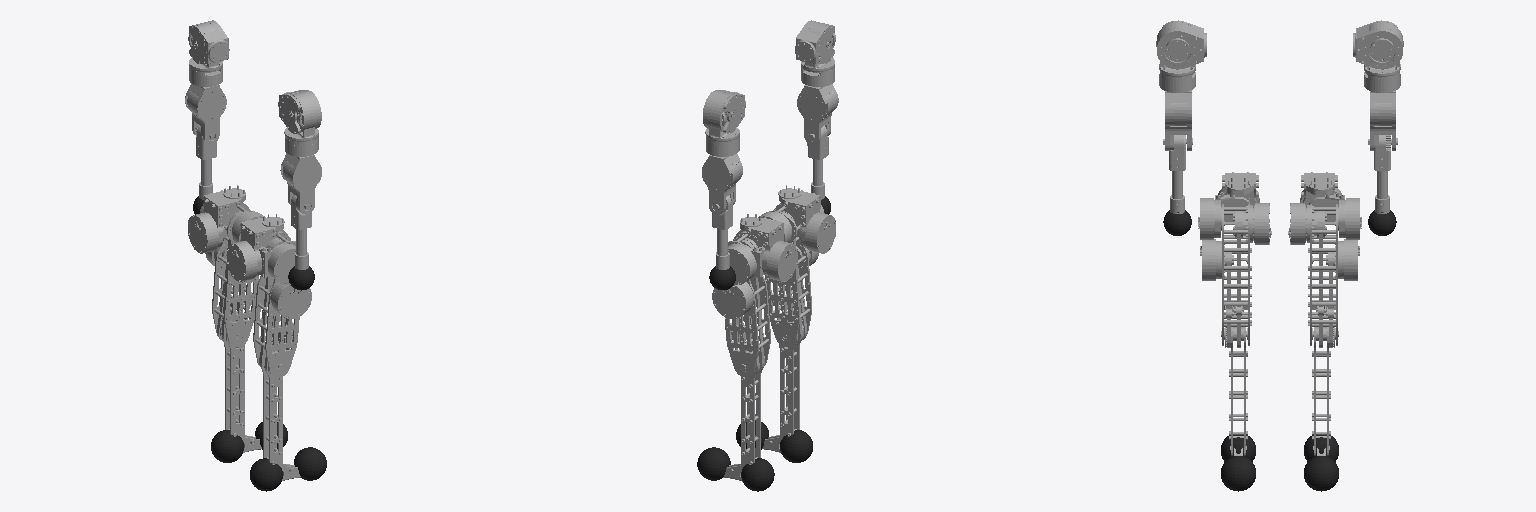
--- Render facts (derived) ---
3 views of the same robot in one strip: view 1: azimuth 30°, elevation 25°; view 2: azimuth 150°, elevation 25°; view 3: azimuth 270°, elevation 25° (orthographic).
Robot: achilles — 33 links, 32 joints (18 revolute, 14 fixed); root link base_link; default pose: all joints at 0.
Links seen in each view (by area): view 1: right_hip_pitch, left_hip_pitch, left_hip_yaw, right_hip_yaw, left_knee_pitch, right_knee_pitch, left_shoulder_yaw, right_shoulder_yaw, right_shoulder_pitch, left_shoulder_pitch, right_hip_roll, right_elbow_pitch (+6 smaller); view 2: left_hip_pitch, right_hip_pitch, right_hip_yaw, left_hip_yaw, right_knee_pitch, left_knee_pitch, right_shoulder_yaw, left_shoulder_yaw, left_shoulder_pitch, right_shoulder_pitch, left_hip_roll, left_elbow_pitch (+6 smaller); view 3: left_hip_pitch, right_hip_pitch, left_shoulder_pitch, right_shoulder_pitch, right_shoulder_yaw, left_shoulder_yaw, left_hip_roll, right_hip_roll, left_knee_pitch, right_knee_pitch, left_elbow_pitch, right_elbow_pitch (+10 smaller).
Boxes of the visible links, left/top/right/bottom form: right_hip_pitch: left=253, top=230, right=311, bottom=377; left_hip_pitch: left=205, top=203, right=265, bottom=347; left_hip_yaw: left=188, top=185, right=245, bottom=253; right_hip_yaw: left=227, top=214, right=284, bottom=281; left_knee_pitch: left=220, top=319, right=245, bottom=443; right_knee_pitch: left=259, top=350, right=283, bottom=471; left_shoulder_yaw: left=185, top=83, right=226, bottom=144; right_shoulder_yaw: left=280, top=153, right=321, bottom=214; right_shoulder_pitch: left=278, top=90, right=321, bottom=133; left_shoulder_pitch: left=189, top=20, right=229, bottom=63; right_hip_roll: left=259, top=243, right=295, bottom=285; right_elbow_pitch: left=291, top=195, right=311, bottom=269; left_hip_pitch: left=712, top=230, right=770, bottom=377; right_hip_pitch: left=758, top=203, right=818, bottom=347; right_hip_yaw: left=778, top=185, right=835, bottom=253; left_hip_yaw: left=740, top=214, right=797, bottom=281; right_knee_pitch: left=779, top=320, right=803, bottom=443; left_knee_pitch: left=740, top=350, right=764, bottom=471; right_shoulder_yaw: left=797, top=84, right=838, bottom=144; left_shoulder_yaw: left=702, top=154, right=742, bottom=214; left_shoulder_pitch: left=703, top=90, right=745, bottom=133; right_shoulder_pitch: left=795, top=20, right=834, bottom=63; left_hip_roll: left=728, top=243, right=764, bottom=284; left_elbow_pitch: left=712, top=195, right=732, bottom=269; left_hip_pitch: left=1288, top=203, right=1359, bottom=347; right_hip_pitch: left=1200, top=203, right=1271, bottom=347; left_shoulder_pitch: left=1353, top=20, right=1403, bottom=69; right_shoulder_pitch: left=1156, top=20, right=1206, bottom=69; right_shoulder_yaw: left=1163, top=90, right=1192, bottom=150; left_shoulder_yaw: left=1368, top=91, right=1397, bottom=150; left_hip_roll: left=1309, top=192, right=1361, bottom=239; right_hip_roll: left=1198, top=192, right=1250, bottom=239; left_knee_pitch: left=1312, top=327, right=1338, bottom=455; right_knee_pitch: left=1221, top=327, right=1247, bottom=455; left_elbow_pitch: left=1374, top=135, right=1390, bottom=213; right_elbow_pitch: left=1169, top=135, right=1185, bottom=213.
Size in the robot's own frame: 0.2424 by 0.536 by 1.06 metres.
Meshes: 17 distinct files referenced, 18 mesh visuals loaded (16 OBJ); not drawn: 1 (reference not matched to a file when rendering).

robot.urdf — achilles:
<?xml version="1.0" ?>
<robot name="achilles">

  <!-- Colorblind -->
  <material name="red">
    <!-- <color rgba="0.847 0.106 0.377 1" /> -->
    <color rgba="0.4 0 0 1" />
  </material>
  <material name="green">
    <color rgba="0.0 0.302 0.251 1" />
  </material>
  <material name="blue">
    <!-- <color rgba="0.1176 0.533 0.898 1" /> -->
    <color rgba="0 0 0.4 1" />
  </material>
  <material name="yellow">
    <color rgba="1.0 0.757 0.028 1" />
  </material>

  <!-- Materials -->
  <material name="black">
    <color rgba="0.2 0.2 0.2 1" />
  </material>
  <material name="white">
    <color rgba="0.7 0.7 0.7 1" />
  </material>
  <material name="caltech_orange">
    <color rgba="0.92 0.39 0.043 1" />
  </material>

  <!-- Base -->
  <link name="base_link"/>
  <link name="torso">
    <inertial>
      <origin rpy="0 0 0" xyz="0 0 -0.107903"/>
      <mass value="8.3"/>
      <inertia ixx="0.172676" ixy="0.0" ixz="0.0" iyy="0.102985" iyz="0.0" izz="0.087971"/>
    </inertial>
    <visual>
      <origin rpy="0 0 0" xyz="0 0 0"/>
      <geometry>
        <mesh filename="../meshes/achilles_obj/torso_rough.obj"/>
      </geometry>
      <material name="white"/>
    </visual>
  </link>
  <joint name="base_to_torso_joint" type="fixed">
    <parent link="base_link"/>
    <child link="torso"/>
    <origin rpy="0 0 0" xyz="0 0 0"/>
  </joint>

  <!-- Left Leg -->
  <link name="left_hip_yaw">
    <inertial>
      <origin rpy="0 0 0" xyz="-0.066483 -0.001451 -0.062589"/>
      <mass value="0.80187"/>
      <inertia ixx="0.001907" ixy="0" ixz="0" iyy="0.002034" iyz="0" izz="0.001175"/>
    </inertial>
    <visual>
      <origin rpy="0 0 0" xyz="0 0 0"/>
      <geometry>
        <mesh filename="../meshes/achilles_obj/left_hip_yaw.obj"/>
      </geometry>
      <material name="white"/>
      <!-- <material name="blue"/> -->
    </visual>
  </link>
  <joint name="left_hip_yaw_joint" type="revolute">
    <axis xyz="0 0 1"/>
    <limit effort="35.0" lower="-1" upper="1" velocity="20"/>
    <dynamics damping="0.01"/>
    <origin rpy="0 0 0" xyz="0 0.090 -0.334"/>
    <parent link="torso"/>
    <child link="left_hip_yaw"/>
  </joint>

  <link name="left_hip_roll">
    <inertial>
      <origin rpy="0 0 0" xyz="0.0465 0.055 0.000784"/>
      <mass value="0.843"/>
      <inertia ixx="0.000867" ixy="0" ixz="0" iyy="0.001086" iyz="0" izz="0.001082"/>
    </inertial>
    <visual>
      <origin rpy="0 0 0" xyz="0 0 0"/>
      <geometry>
        <mesh filename="../meshes/achilles_obj/left_hip_roll.obj"/>
      </geometry>
      <material name="white"/>
      <!-- <material name="blue"/> -->
    </visual>
  </link>
  <joint name="left_hip_roll_joint" type="revolute">
    <axis xyz="1 0 0"/>
    <limit effort="35.0" lower="-1" upper="1" velocity="10"/>
    <dynamics damping="0.01"/>
    <origin rpy="0 0 0" xyz="-0.055 0 -0.083"/>
    <parent link="left_hip_yaw"/>
    <child link="left_hip_roll"/>
  </joint>

  <link name="left_hip_pitch">
    <inertial>
      <origin rpy="0 0 0" xyz="0.0139 -0.0336 -0.076"/>
      <mass value="2.42"/>
      <inertia ixx="0.0206" ixy="0" ixz="0" iyy="0.0173" iyz="0" izz="0.00594"/>
    </inertial>
    <visual>
      <origin rpy="0 0 0" xyz="0 0 0"/>
      <geometry>
        <mesh filename="../meshes/achilles_obj/left_hip_pitch.obj"/>
      </geometry>
      <material name="white"/>
      <!-- <material name="blue"/> -->
    </visual>
  </link>
  <joint name="left_hip_pitch_joint" type="revolute">
    <axis xyz="0 1 0"/>
    <limit effort="35.0" lower="-1.5" upper="1.5" velocity="20"/>
    <dynamics damping="0.01"/>
    <origin rpy="0 0 0" xyz="0.055 0.0395 0"/>
    <parent link="left_hip_roll"/>
    <child link="left_hip_pitch"/>
  </joint>

  <link name="left_hip_center">
    <inertial>
      <origin rpy="0 0 0" xyz="0 0 0"/>
      <mass value="0.001"/>
      <inertia ixx="1e-06" ixy="0.0" ixz="0.0" iyy="1e-06" iyz="0.0" izz="1e-06"/>
    </inertial>
  </link>
  <joint name="left_hip_center_joint" type="fixed">
    <origin rpy="0 0 0" xyz="0 -0.0395 0"/>
    <parent link="left_hip_pitch"/>
    <child link="left_hip_center"/>
  </joint>

  <link name="left_knee_pitch">
    <inertial>
      <origin rpy="0 0 0" xyz="0.001 0.003 -0.131"/>
      <mass value="0.556"/>
      <inertia ixx="0.00666" ixy="0" ixz="0" iyy="0.006613" iyz="0" izz="0.000226"/>
    </inertial>
    <visual>
      <origin rpy="0 0 0" xyz="0 0 0"/>
      <geometry>
        <mesh filename="../meshes/achilles_obj/left_knee_pitch.obj"/>
      </geometry>
      <material name="white"/>
      <!-- <material name="blue"/> -->
    </visual>
  </link>
  <joint name="left_knee_pitch_joint" type="revolute">
    <axis xyz="0 1 0"/>
    <origin rpy="0 0 0" xyz="0.0 -0.0395 -0.275"/>
    <parent link="left_hip_pitch"/>
    <child link="left_knee_pitch"/>
    <limit effort="35.0" lower="0" upper="2" velocity="10"/>
    <dynamics damping="0.01"/>
  </joint>

  <link name="left_ankle_pitch">
    <inertial>
      <origin rpy="0 0 0" xyz="0.0272 0.0 -0.0156"/>
      <mass value="0.180"/>
      <inertia ixx="0.000031" ixy="0" ixz="0" iyy="0.000286" iyz="0" izz="0.000272"/>
    </inertial>
    <visual>
      <origin rpy="0 0 0" xyz="0 0 0"/>
      <geometry>
        <mesh filename="../meshes/achilles_obj/ankle_pitch.obj"/>
      </geometry>
      <material name="white"/>
      <!-- <material name="blue"/> -->
    </visual>
  </link>
  <joint name="left_ankle_pitch_joint" type="revolute">
    <axis xyz="0 1 0"/>
    <origin rpy="0 0 0" xyz="0 0 -0.275"/>
    <parent link="left_knee_pitch"/>
    <child link="left_ankle_pitch"/>
    <limit effort="35" lower="-1" upper="1" velocity="20"/>
    <dynamics damping="0.01"/>
  </joint>

  <link name="left_foot">
    <!-- <inertial>
      <origin rpy="0 0 0" xyz="0 0 0"/>
      <mass value="0.001"/>
      <inertia ixx="1e-06" ixy="0.0" ixz="0.0" iyy="1e-06" iyz="0.0" izz="1e-06"/>
    </inertial> -->
  </link>
  
  <joint name="left_foot_joint" type="fixed">
    <origin rpy="0 0 0" xyz="0 0 0"/>
    <parent link="left_ankle_pitch"/>
    <child link="left_foot"/>
  </joint>

  <link name="left_foot_toe">
    <inertial>
      <origin rpy="0 0 0" xyz="0 0 0"/>
      <mass value="0.001"/>
      <inertia ixx="1e-06" ixy="0.0" ixz="0.0" iyy="1e-06" iyz="0.0" izz="1e-06"/>
    </inertial>
    <visual>
      <origin rpy="0 0 0" xyz="0 0 0"/>
      <geometry>
        <sphere radius="0.039"/>
      </geometry>
      <material name="black"/>
    </visual>
    <collision>
      <origin rpy="0 0 0" xyz="0 0 0"/>
      <geometry>
        <sphere radius="0.039"/>
      </geometry>
    </collision>
  </link>
  <joint name="left_foot_toe_joint" type="fixed">
    <origin rpy="0 0 0" xyz="0.09932 0 -0.01259"/>
    <parent link="left_ankle_pitch"/>
    <child link="left_foot_toe"/>
  </joint>

  <link name="left_foot_heel">
    <inertial>
      <origin rpy="0 0 0" xyz="0 0 0"/>
      <mass value="0.001"/>
      <inertia ixx="1e-06" ixy="0.0" ixz="0.0" iyy="1e-06" iyz="0.0" izz="1e-06"/>
    </inertial>
    <visual>
      <origin rpy="0 0 0" xyz="0 0 0"/>
      <geometry>
        <sphere radius="0.039"/>
      </geometry>
      <material name="black"/>
    </visual>
    <collision>
      <origin rpy="0 0 0" xyz="0 0 0"/>
      <geometry>
        <sphere radius="0.039"/>
      </geometry>
    </collision>
  </link>
  <joint name="left_foot_heel_joint" type="fixed">
    <origin rpy="0 0 0" xyz="-0.01859 0 -0.01259"/>
    <parent link="left_ankle_pitch"/>
    <child link="left_foot_heel"/>
  </joint>

  <!-- Left Arm-->
  <link name="left_shoulder_pitch">
    <inertial>
      <origin rpy="0 0 0" xyz="0 0.05 0"/>
      <mass value="0.796"/>
      <inertia ixx="0.000943" ixy="0" ixz="0" iyy="0.00056" iyz="0" izz="0.000675"/>
    </inertial>
    <visual>
      <origin rpy="0 0 0" xyz="0 0 0"/>
      <geometry>
        <mesh filename="../meshes/achilles_obj/left_shoulder_pitch.obj"/>
      </geometry>
      <material name="white"/>
      <!-- <material name="blue"/> -->
    </visual>
  </link>
  <joint name="left_shoulder_pitch_joint" type="revolute">
    <axis xyz="0 1 0"/>
    <limit effort="35" lower="-1.58" upper="1.58" velocity="20"/>
    <dynamics damping="0.01"/>
    <origin rpy="0 0 0" xyz="0 0.159 0"/>
    <parent link="torso"/>
    <child link="left_shoulder_pitch"/>
  </joint>
  
  <link name="left_shoulder_roll">
    <inertial>
      <origin rpy="0 0 0" xyz="0 0 -0.0708"/>
      <mass value="0.484"/>
      <inertia ixx="0.000498" ixy="0" ixz="0" iyy="0.000458" iyz="0" izz="0.000384"/>
    </inertial>
    <visual>
      <origin rpy="0 0 0" xyz="0 0 0"/>
      <geometry>
        <mesh filename="../meshes/achilles_obj/left_shoulder_roll.obj"/>
      </geometry>
      <material name="white"/>
      <!-- <material name="blue"/> -->
    </visual>
  </link>
  <joint name="left_shoulder_roll_joint" type="revolute">
    <axis xyz="1 0 0"/>
    <limit effort="9" lower="0" upper="3.141592653589793" velocity="20"/>
    <dynamics damping="0.01"/>
    <origin rpy="0 0 0" xyz="0 0.063 0"/>
    <parent link="left_shoulder_pitch"/>
    <child link="left_shoulder_roll"/>
  </joint>

  <link name="left_shoulder_center">
    <inertial>
      <origin rpy="0 0 0" xyz="0 0 0"/>
      <mass value="0.001"/>
      <inertia ixx="1e-06" ixy="0.0" ixz="0.0" iyy="1e-06" iyz="0.0" izz="1e-06"/>
    </inertial>
  </link>
  <joint name="left_shoulder_center_joint" type="fixed">
    <origin rpy="0 0 0" xyz="0 0 0"/>
    <parent link="left_shoulder_roll"/>
    <child link="left_shoulder_center"/>
  </joint>

  <link name="left_shoulder_yaw">
    <inertial>
      <origin rpy="0 0 0" xyz="0 0 -0.059"/>
      <mass value="0.5847"/>
      <inertia ixx="0.0007" ixy="0" ixz="0" iyy="0.000796" iyz="0" izz="0.000348"/>
    </inertial>
    <visual>
      <origin rpy="0 0 0" xyz="0 0 0"/>
      <geometry>
        <mesh filename="../meshes/achilles_obj/right_shoulder_yaw.obj"/>
      </geometry>
      <material name="white"/>
      <!-- <material name="blue"/> -->
    </visual>
  </link>
  <joint name="left_shoulder_yaw_joint" type="revolute">
    <origin rpy="0 0 0" xyz="0 0 -0.0986"/>
    <parent link="left_shoulder_roll"/>
    <child link="left_shoulder_yaw"/>
    <axis xyz="0 0 1"/>
    <limit effort="9" lower="-1.58" upper="1.58" velocity="20"/>
  </joint>

  <link name="left_elbow_pitch">
    <inertial>
      <origin rpy="0 0 0" xyz="0 0 -0.1284"/>
      <mass value="0.297"/>
      <inertia ixx="0.0018" ixy="0" ixz="0" iyy="0.0018" iyz="0" izz="0.0001"/>
    </inertial>
    <visual>
      <origin rpy="0 0 0" xyz="0 0 0"/>
      <geometry>
        <mesh filename="../meshes/achilles_obj/left_elbow_pitch.obj"/>
      </geometry>
      <material name="white"/>
      <!-- <material name="blue"/> -->
    </visual>
  </link>
  <joint name="left_elbow_pitch_joint" type="revolute">
    <axis xyz="0 1 0"/>
    <limit effort="9" lower="-1.58" upper="0" velocity="10"/>
    <dynamics damping="0.01"/>
    <origin rpy="0 0 0" xyz="0 0 -0.133"/>
    <parent link="left_shoulder_yaw"/>
    <child link="left_elbow_pitch"/>
  </joint>

  <link name="left_hand">
    <inertial>
      <origin rpy="0 0 0" xyz="0 0 0"/>
      <mass value="0.001"/>
      <inertia ixx="1e-06" ixy="0.0" ixz="0.0" iyy="1e-06" iyz="0.0" izz="1e-06"/>
    </inertial>
      <visual>
      <origin rpy="0 0 0" xyz="0 0 0"/>
      <geometry>
        <sphere radius="0.031"/>
      </geometry>
      <material name="black"/>
    </visual>
    <collision>
      <origin rpy="0 0 0" xyz="0 0 0"/>
      <geometry>
        <sphere radius="0.031"/>
      </geometry>
    </collision>
  </link>
  <!-- Hand radius is 0.03 m -->
  <joint name="left_hand_joint" type="fixed">
    <origin rpy="0 0 0" xyz="0.0 0.0 -0.192"/>
    <parent link="left_elbow_pitch"/>
    <child link="left_hand"/>
  </joint>



  <!-- Right Leg -->
  <link name="right_hip_yaw">
    <inertial>
      <origin rpy="0 0 0" xyz="-0.066483 0.001451 -0.062589"/>
      <mass value="0.80187"/>
      <inertia ixx="0.001907" ixy="0" ixz="0" iyy="0.002034" iyz="0" izz="0.001175"/>
    </inertial>
    <visual>
      <origin rpy="0 0 0" xyz="0 0 0"/>
      <geometry>
        <mesh filename="../meshes/achilles_obj/right_hip_yaw.obj"/>
      </geometry>
      <material name="white"/>
      <!-- <material name="red"/> -->
    </visual>
  </link>
  <joint name="right_hip_yaw_joint" type="revolute">
    <axis xyz="0 0 1"/>
    <limit effort="35.0" lower="-1" upper="1" velocity="20"/>
    <dynamics damping="0.01"/>
    <origin rpy="0 0 0" xyz="0 -0.090 -0.334"/>
    <parent link="torso"/>
    <child link="right_hip_yaw"/>
  </joint>

  <link name="right_hip_roll">
    <inertial>
      <origin rpy="0 0 0" xyz="0.0465 -0.055 0.000784"/>
      <mass value="0.843"/>
      <inertia ixx="0.000867" ixy="0" ixz="0" iyy="0.001086" iyz="0" izz="0.001082"/>
    </inertial>
    <visual>
      <origin rpy="0 0 0" xyz="0 0 0"/>
      <geometry>
        <mesh filename="../meshes/achilles_obj/right_hip_roll.obj"/>
      </geometry>
      <material name="white"/>
      <!-- <material name="red"/> -->
    </visual>
  </link>
  <joint name="right_hip_roll_joint" type="revolute">
    <axis xyz="1 0 0"/>
    <limit effort="35.0" lower="-1" upper="1" velocity="10"/>
    <dynamics damping="0.01"/>
    <origin rpy="0 0 0" xyz="-0.055 0 -0.083"/>
    <parent link="right_hip_yaw"/>
    <child link="right_hip_roll"/>
  </joint>

  <link name="right_hip_pitch">
    <inertial>
      <origin rpy="0 0 0" xyz="0.0139 0.0336 -0.076"/>
      <mass value="2.42"/>
      <inertia ixx="0.0206" ixy="0" ixz="0" iyy="0.0173" iyz="0" izz="0.00594"/>
    </inertial>
    <visual>
      <origin rpy="0 0 0" xyz="0 0 0"/>
      <geometry>
        <mesh filename="../meshes/achilles_obj/right_hip_pitch.obj"/>
      </geometry>
      <material name="white"/>
      <!-- <material name="red"/> -->
    </visual>
  </link>
  <joint name="right_hip_pitch_joint" type="revolute">
    <axis xyz="0 1 0"/>
    <limit effort="35.0" lower="-1.5" upper="1.5" velocity="20"/>
    <dynamics damping="0.01"/>
    <origin rpy="0 0 0" xyz="0.055 -0.0395 0"/>
    <parent link="right_hip_roll"/>
    <child link="right_hip_pitch"/>
  </joint>

  <link name="right_hip_center">
    <inertial>
      <origin rpy="0 0 0" xyz="0 0 0"/>
      <mass value="0.001"/>
      <inertia ixx="1e-06" ixy="0.0" ixz="0.0" iyy="1e-06" iyz="0.0" izz="1e-06"/>
    </inertial>
  </link>
  <joint name="right_hip_center_joint" type="fixed">
    <origin rpy="0 0 0" xyz="0 0.0395 0"/>
    <parent link="right_hip_pitch"/>
    <child link="right_hip_center"/>
  </joint>

  <link name="right_knee_pitch">
    <inertial>
      <origin rpy="0 0 0" xyz="0.001 -0.003 -0.131"/>
      <mass value="0.556"/>
      <inertia ixx="0.00666" ixy="0" ixz="0" iyy="0.006613" iyz="0" izz="0.000226"/>
    </inertial>
    <visual>
      <origin rpy="0 0 0" xyz="0 0 0"/>
      <geometry>
        <mesh filename="../meshes/achilles_obj/right_knee_pitch.obj"/>
      </geometry>
      <material name="white"/>
      <!-- <material name="red"/> -->
    </visual>
  </link>
  <joint name="right_knee_pitch_joint" type="revolute">
    <axis xyz="0 1 0"/>
    <origin rpy="0 0 0" xyz="0.0 0.0395 -0.275"/>
    <parent link="right_hip_pitch"/>
    <child link="right_knee_pitch"/>
    <limit effort="35.0" lower="0" upper="2" velocity="10"/>
    <dynamics damping="0.01"/>
  </joint>

  <link name="right_ankle_pitch">
    <inertial>
      <origin rpy="0 0 0" xyz="0.0272 -0.0 -0.0156"/>
      <mass value="0.180"/>
      <inertia ixx="0.000031" ixy="0" ixz="0" iyy="0.000286" iyz="0" izz="0.000272"/>
    </inertial>
    <visual>
      <origin rpy="0 0 0" xyz="0 0 0"/>
      <geometry>
        <mesh filename="../meshes/achilles_obj/ankle_pitch.obj"/>
      </geometry>
      <material name="white"/>
      <!-- <material name="red"/> -->
    </visual>
  </link>
  <joint name="right_ankle_pitch_joint" type="revolute">
    <axis xyz="0 1 0"/>
    <origin rpy="0 0 0" xyz="0 0 -0.275"/>
    <parent link="right_knee_pitch"/>
    <child link="right_ankle_pitch"/>
    <limit effort="35" lower="-1" upper="1" velocity="20"/>
    <dynamics damping="0.01"/>
  </joint>

  <link name="right_foot">
    <!-- <inertial>
      <origin rpy="0 0 0" xyz="0 0 0"/>
      <mass value="0.001"/>
      <inertia ixx="1e-06" ixy="0.0" ixz="0.0" iyy="1e-06" iyz="0.0" izz="1e-06"/>
    </inertial> -->
  </link>
  <joint name="right_foot_joint" type="fixed">
    <origin rpy="0 0 0" xyz="0 0 0"/>
    <parent link="right_ankle_pitch"/>
    <child link="right_foot"/>
  </joint>

   <link name="right_foot_toe">
    <inertial>
      <origin rpy="0 0 0" xyz="0 0 0"/>
      <mass value="0.001"/>
      <inertia ixx="1e-06" ixy="0.0" ixz="0.0" iyy="1e-06" iyz="0.0" izz="1e-06"/>
    </inertial>
    <visual>
      <origin rpy="0 0 0" xyz="0 0 0"/>
      <geometry>
        <sphere radius="0.039"/>
      </geometry>
      <material name="black"/>
    </visual>
    <collision>
      <origin rpy="0 0 0" xyz="0 0 0"/>
      <geometry>
        <sphere radius="0.039"/>
      </geometry>
    </collision>
  </link>
  <joint name="right_foot_toe_joint" type="fixed">
    <origin rpy="0 0 0" xyz="0.09932 0 -0.01259"/>
    <parent link="right_ankle_pitch"/>
    <child link="right_foot_toe"/>
  </joint>

  <link name="right_foot_heel">
    <inertial>
      <origin rpy="0 0 0" xyz="0 0 0"/>
      <mass value="0.001"/>
      <inertia ixx="1e-06" ixy="0.0" ixz="0.0" iyy="1e-06" iyz="0.0" izz="1e-06"/>
    </inertial>
    <visual>
      <origin rpy="0 0 0" xyz="0 0 0"/>
      <geometry>
        <sphere radius="0.039"/>
      </geometry>
      <material name="black"/>
    </visual>
    <collision>
      <origin rpy="0 0 0" xyz="0 0 0"/>
      <geometry>
        <sphere radius="0.039"/>
      </geometry>
    </collision>
  </link>
  <joint name="right_foot_heel_joint" type="fixed">
    <origin rpy="0 0 0" xyz="-0.01859 0 -0.01259"/>
    <parent link="right_ankle_pitch"/>
    <child link="right_foot_heel"/>
  </joint>

    <!-- Right Arm-->
  <link name="right_shoulder_pitch">
    <inertial>
      <origin rpy="0 0 0" xyz="0 -0.05 0"/>
      <mass value="0.796"/>
      <inertia ixx="0.000943" ixy="0" ixz="0" iyy="0.00056" iyz="0" izz="0.000675"/>
    </inertial>
    <visual>
      <origin rpy="0 0 0" xyz="0 0 0"/>
      <geometry>
        <mesh filename="../meshes/achilles_obj/right_shoulder_pitch.obj"/>
      </geometry>
      <material name="white"/>
      <!-- <material name="red"/> -->
    </visual>
  </link>
  <joint name="right_shoulder_pitch_joint" type="revolute">
    <axis xyz="0 1 0"/>
    <limit effort="35" lower="-1.58" upper="1.58" velocity="20"/>
    <dynamics damping="0.01"/>
    <origin rpy="0 0 0" xyz="0 -0.159 0"/>
    <parent link="torso"/>
    <child link="right_shoulder_pitch"/>
  </joint>
  
  <link name="right_shoulder_roll">
    <inertial>
      <origin rpy="0 0 0" xyz="0 0 -0.0708"/>
      <mass value="0.484"/>
      <inertia ixx="0.000498" ixy="0" ixz="0" iyy="0.000458" iyz="0" izz="0.000384"/>
    </inertial>
    <visual>
      <origin rpy="0 0 0" xyz="0 0 0"/>
      <geometry>
        <mesh filename="../meshes/achilles_obj/right_shoulder_roll.obj"/>
      </geometry>
      <material name="white"/>
      <!-- <material name="red"/> -->
    </visual>
  </link>
  <joint name="right_shoulder_roll_joint" type="revolute">
    <axis xyz="1 0 0"/>
    <limit effort="9" lower="-3.14" upper="0" velocity="20"/>
    <dynamics damping="0.01"/>
    <origin rpy="0 0 0" xyz="0 -0.063 0"/>
    <parent link="right_shoulder_pitch"/>
    <child link="right_shoulder_roll"/>
  </joint>

  <link name="right_shoulder_center">
    <inertial>
      <origin rpy="0 0 0" xyz="0 0 0"/>
      <mass value="0.001"/>
      <inertia ixx="1e-06" ixy="0.0" ixz="0.0" iyy="1e-06" iyz="0.0" izz="1e-06"/>
    </inertial>
  </link>
  <joint name="right_shoulder_center_joint" type="fixed">
    <origin rpy="0 0 0" xyz="0 0 0"/>
    <parent link="right_shoulder_roll"/>
    <child link="right_shoulder_center"/>
  </joint>

  <link name="right_shoulder_yaw">
    <inertial>
      <origin rpy="0 0 0" xyz="0 0 -0.059"/>
      <mass value="0.5847"/>
      <inertia ixx="0.0007" ixy="0" ixz="0" iyy="0.000796" iyz="0" izz="0.000348"/>
    </inertial>
    <visual>
      <origin rpy="0 0 0" xyz="0 0 0"/>
      <geometry>
        <mesh filename="../meshes/achilles_obj/right_shoulder_yaw.obj"/>
      </geometry>
      <material name="white"/>
      <!-- <material name="red"/> -->
    </visual>
  </link>
  <joint name="right_shoulder_yaw_joint" type="revolute">
    <origin rpy="0 0 0" xyz="0 0 -0.0986"/>
    <parent link="right_shoulder_roll"/>
    <child link="right_shoulder_yaw"/>
    <axis xyz="0 0 1"/>
    <limit effort="9.0" lower="-1.58" upper="1.58" velocity="20"/>
  </joint>

  <link name="right_elbow_pitch">
    <inertial>
      <origin rpy="0 0 0" xyz="0 0 -0.1284"/>
      <mass value="0.297"/>
      <inertia ixx="0.0018" ixy="0" ixz="0" iyy="0.0018" iyz="0" izz="0.0001"/>
    </inertial>
    <visual>
      <origin rpy="0 0 0" xyz="0 0 0"/>
      <geometry>
        <mesh filename="../meshes/achilles_obj/right_elbow_pitch.obj"/>
      </geometry>
      <material name="white"/>
      <!-- <material name="red"/> -->
    </visual>
  </link>
  <joint name="right_elbow_pitch_joint" type="revolute">
    <axis xyz="0 1 0"/>
    <limit effort="9" lower="-1.58" upper="0" velocity="20"/>
    <dynamics damping="0.01"/>
    <origin rpy="0 0 0" xyz="0 0 -0.133"/>
    <parent link="right_shoulder_yaw"/>
    <child link="right_elbow_pitch"/>
  </joint>

  <link name="right_hand">
    <inertial>
      <origin rpy="0 0 0" xyz="0 0 0"/>
      <mass value="0.001"/>
      <inertia ixx="1e-06" ixy="0.0" ixz="0.0" iyy="1e-06" iyz="0.0" izz="1e-06"/>
    </inertial>
      <visual>
      <origin rpy="0 0 0" xyz="0 0 0"/>
      <geometry>
        <sphere radius="0.031"/>
      </geometry>
      <material name="black"/>
    </visual>
    <collision>
      <origin rpy="0 0 0" xyz="0 0 0"/>
      <geometry>
        <sphere radius="0.031"/>
      </geometry>
    </collision>
  </link>
  <!-- Hand radius is 0.03 m -->
  <joint name="right_hand_joint" type="fixed">
    <origin rpy="0 0 0" xyz="0.0 0.0 -0.192"/>
    <parent link="right_elbow_pitch"/>
    <child link="right_hand"/>
  </joint>

  <link name="static_com">
    <inertial>
      <origin rpy="0 0 0" xyz="0 0 0"/>
      <mass value="0.001"/>
      <inertia ixx="1e-06" ixy="0" ixz="0" iyy="1e-06" iyz="0" izz="1e-06"/>
    </inertial>
  </link>
  <joint name="static_com_joint" type="fixed">
    <origin rpy="0 0 0" xyz="-0.001 0 -0.28"/> 
    <parent link="torso"/>
    <child link="static_com"/>
  </joint>

  <transmission name="left_hip_yaw_transmission">
    <type>transmission_interface/SimpleTransmission</type>
    <joint name="left_hip_yaw_joint">
      <hardwareInterface>hardware_interface/EffortJointInterface</hardwareInterface>
    </joint>
    <actuator name="left_hip_yaw_actuator">
      <mechanicalReduction>1</mechanicalReduction>
    </actuator>
  </transmission>
  <transmission name="left_hip_roll_transmission">
    <type>transmission_interface/SimpleTransmission</type>
    <joint name="left_hip_roll_joint">
      <hardwareInterface>hardware_interface/EffortJointInterface</hardwareInterface>
    </joint>
    <actuator name="left_hip_roll_actuator">
      <mechanicalReduction>1</mechanicalReduction>
    </actuator>
  </transmission>
  <transmission name="left_hip_pitch_transmission">
    <type>transmission_interface/SimpleTransmission</type>
    <joint name="left_hip_pitch_joint">
      <hardwareInterface>hardware_interface/EffortJointInterface</hardwareInterface>
    </joint>
    <actuator name="left_hip_pitch_actuator">
      <mechanicalReduction>1</mechanicalReduction>
    </actuator>
  </transmission>
  <transmission name="left_knee_pitch_transmission">
    <type>transmission_interface/SimpleTransmission</type>
    <joint name="left_knee_pitch_joint">
      <hardwareInterface>hardware_interface/EffortJointInterface</hardwareInterface>
    </joint>
    <actuator name="left_knee_pitch_actuator">
      <mechanicalReduction>1</mechanicalReduction>
    </actuator>
  </transmission>
  <transmission name="left_ankle_pitch_transmission">
    <type>transmission_interface/SimpleTransmission</type>
    <joint name="left_ankle_pitch_joint">
      <hardwareInterface>hardware_interface/EffortJointInterface</hardwareInterface>
    </joint>
    <actuator name="left_ankle_pitch_actuator">
      <mechanicalReduction>1</mechanicalReduction>
    </actuator>
  </transmission> 

  <transmission name="left_shoulder_pitch_transmission">
    <type>transmission_interface/SimpleTransmission</type>
    <joint name="left_shoulder_pitch_joint">
      <hardwareInterface>hardware_interface/EffortJointInterface</hardwareInterface>
    </joint>
    <actuator name="left_shoulder_pitch_actuator">
      <mechanicalReduction>1</mechanicalReduction>
    </actuator>
  </transmission>
  <transmission name="left_shoulder_roll_transmission">
    <type>transmission_interface/SimpleTransmission</type>
    <joint name="left_shoulder_roll_joint">
      <hardwareInterface>hardware_interface/EffortJointInterface</hardwareInterface>
    </joint>
    <actuator name="left_shoulder_roll_actuator">
      <mechanicalReduction>1</mechanicalReduction>
    </actuator>
  </transmission>
  <transmission name="left_shoulder_yaw_transmission">
    <type>transmission_interface/SimpleTransmission</type>
    <joint name="left_shoulder_yaw_joint">
      <hardwareInterface>hardware_interface/EffortJointInterface</hardwareInterface>
    </joint>
    <actuator name="left_shoulder_yaw_actuator">
      <mechanicalReduction>1</mechanicalReduction>
    </actuator>
  </transmission>
  <transmission name="left_elbow_pitch_transmission">
    <type>transmission_interface/SimpleTransmission</type>
    <joint name="left_elbow_pitch_joint">
      <hardwareInterface>hardware_interface/EffortJointInterface</hardwareInterface>
    </joint>
    <actuator name="left_elbow_pitch_actuator">
      <mechanicalReduction>1</mechanicalReduction>
    </actuator>
  </transmission>

  <transmission name="right_hip_yaw_transmission">
    <type>transmission_interface/SimpleTransmission</type>
    <joint name="right_hip_yaw_joint">
      <hardwareInterface>hardware_interface/EffortJointInterface</hardwareInterface>
    </joint>
    <actuator name="right_hip_yaw_actuator">
      <mechanicalReduction>1</mechanicalReduction>
    </actuator>
  </transmission>
  <transmission name="right_hip_roll_transmission">
    <type>transmission_interface/SimpleTransmission</type>
    <joint name="right_hip_roll_joint">
      <hardwareInterface>hardware_interface/EffortJointInterface</hardwareInterface>
    </joint>
    <actuator name="right_hip_roll_actuator">
      <mechanicalReduction>1</mechanicalReduction>
    </actuator>
  </transmission>
  <transmission name="right_hip_pitch_transmission">
    <type>transmission_interface/SimpleTransmission</type>
    <joint name="right_hip_pitch_joint">
      <hardwareInterface>hardware_interface/EffortJointInterface</hardwareInterface>
    </joint>
    <actuator name="right_hip_pitch_actuator">
      <mechanicalReduction>1</mechanicalReduction>
    </actuator>
  </transmission>
  <transmission name="right_knee_pitch_transmission">
    <type>transmission_interface/SimpleTransmission</type>
    <joint name="right_knee_pitch_joint">
      <hardwareInterface>hardware_interface/EffortJointInterface</hardwareInterface>
    </joint>
    <actuator name="right_knee_pitch_actuator">
      <mechanicalReduction>1</mechanicalReduction>
    </actuator>
  </transmission>
  <transmission name="right_ankle_pitch_transmission">
    <type>transmission_interface/SimpleTransmission</type>
    <joint name="right_ankle_pitch_joint">
      <hardwareInterface>hardware_interface/EffortJointInterface</hardwareInterface>
    </joint>
    <actuator name="right_ankle_pitch_actuator">
      <mechanicalReduction>1</mechanicalReduction>
    </actuator>
  </transmission> 

  <transmission name="right_shoulder_pitch_transmission">
    <type>transmission_interface/SimpleTransmission</type>
    <joint name="right_shoulder_pitch_joint">
      <hardwareInterface>hardware_interface/EffortJointInterface</hardwareInterface>
    </joint>
    <actuator name="right_shoulder_pitch_actuator">
      <mechanicalReduction>1</mechanicalReduction>
    </actuator>
  </transmission>
  <transmission name="right_shoulder_roll_transmission">
    <type>transmission_interface/SimpleTransmission</type>
    <joint name="right_shoulder_roll_joint">
      <hardwareInterface>hardware_interface/EffortJointInterface</hardwareInterface>
    </joint>
    <actuator name="right_shoulder_roll_actuator">
      <mechanicalReduction>1</mechanicalReduction>
    </actuator>
  </transmission>
  <transmission name="right_shoulder_yaw_transmission">
    <type>transmission_interface/SimpleTransmission</type>
    <joint name="right_shoulder_yaw_joint">
      <hardwareInterface>hardware_interface/EffortJointInterface</hardwareInterface>
    </joint>
    <actuator name="right_shoulder_yaw_actuator">
      <mechanicalReduction>1</mechanicalReduction>
    </actuator>
  </transmission>
  <transmission name="right_elbow_pitch_transmission">
    <type>transmission_interface/SimpleTransmission</type>
    <joint name="right_elbow_pitch_joint">
      <hardwareInterface>hardware_interface/EffortJointInterface</hardwareInterface>
    </joint>
    <actuator name="right_elbow_pitch_actuator">
      <mechanicalReduction>1</mechanicalReduction>
    </actuator>
  </transmission>

</robot>
